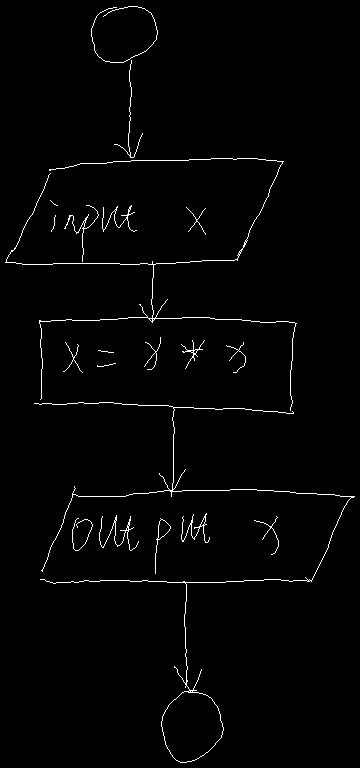arrow: (174, 581, 201, 692), (114, 60, 142, 157), (159, 408, 185, 496), (139, 261, 167, 322)
connection: (161, 690, 223, 762), (91, 6, 157, 62)
data: (40, 486, 354, 583), (5, 158, 283, 264)
process: (34, 317, 296, 413)
text: (72, 513, 278, 573), (50, 200, 205, 261), (63, 337, 245, 372)
